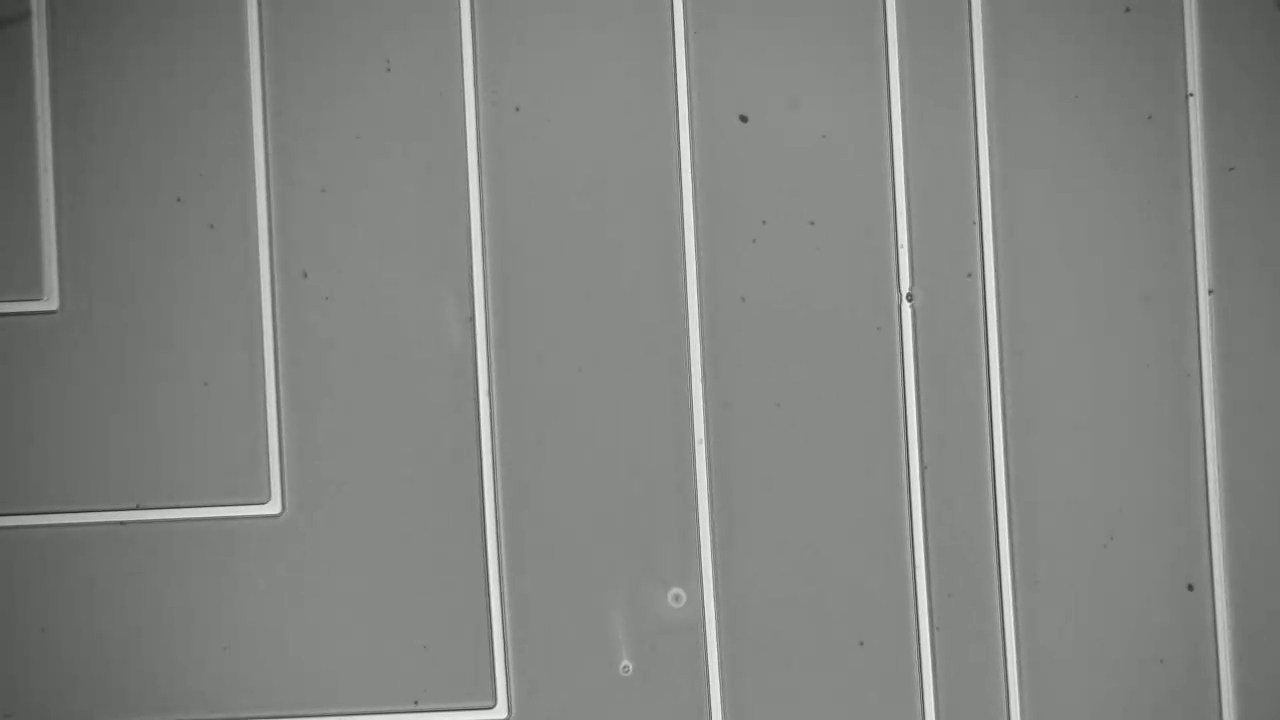stains_enbedded: (890, 286, 921, 308)
